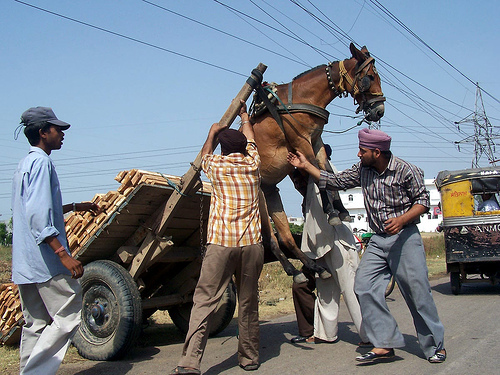horse: (222, 41, 387, 282)
